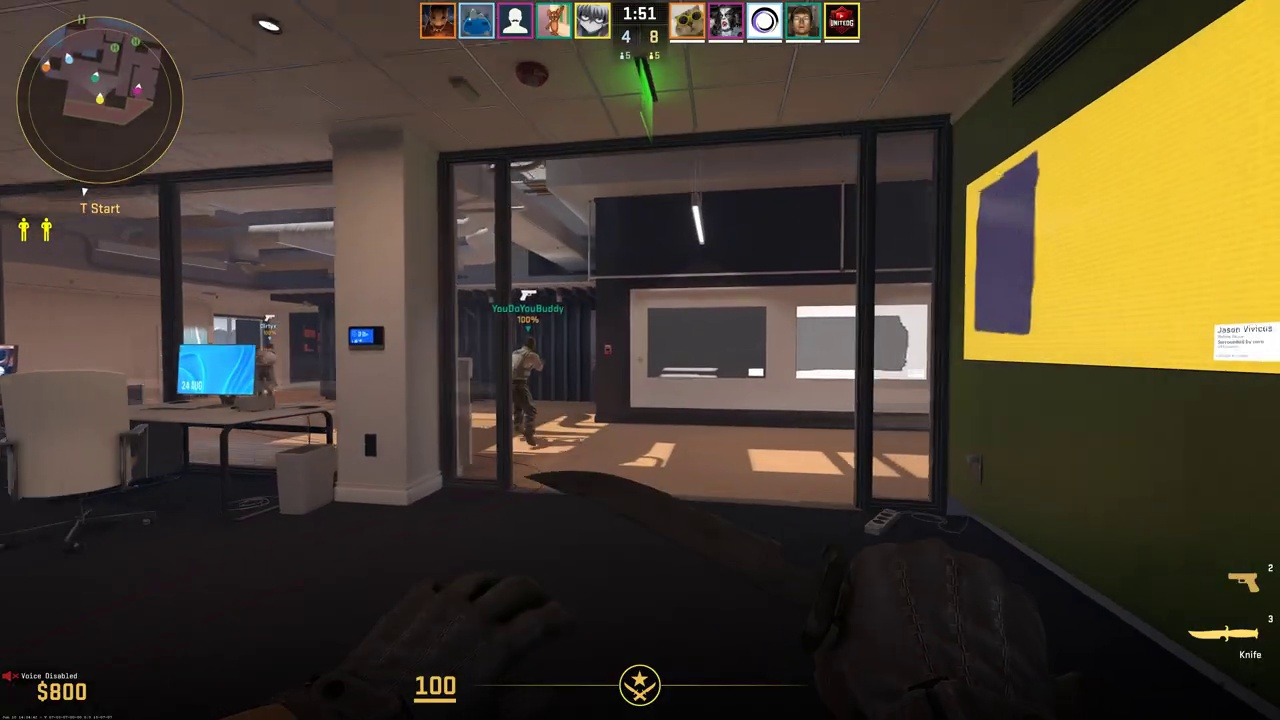Terrorist: (512, 337, 544, 445), (256, 344, 277, 383)
